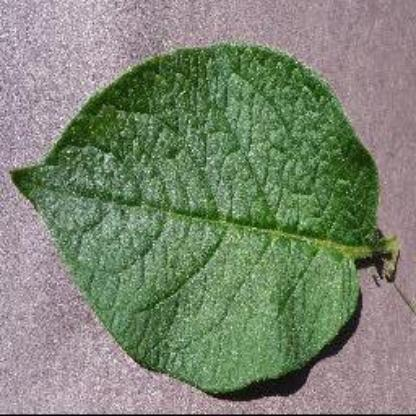Healthy-plant: (12, 43, 398, 393)
